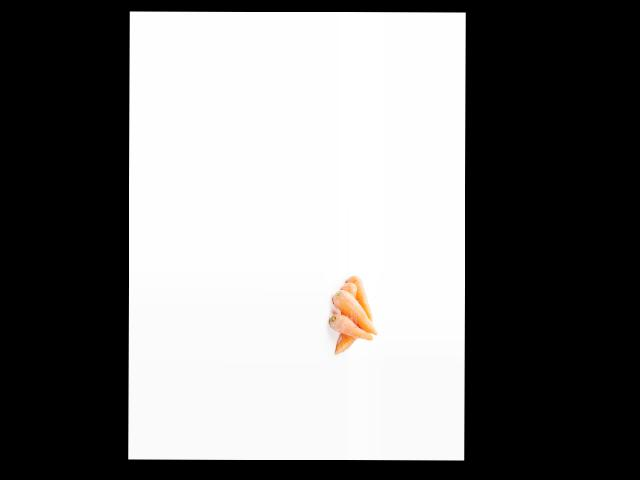carrot: (328, 313, 372, 341)
